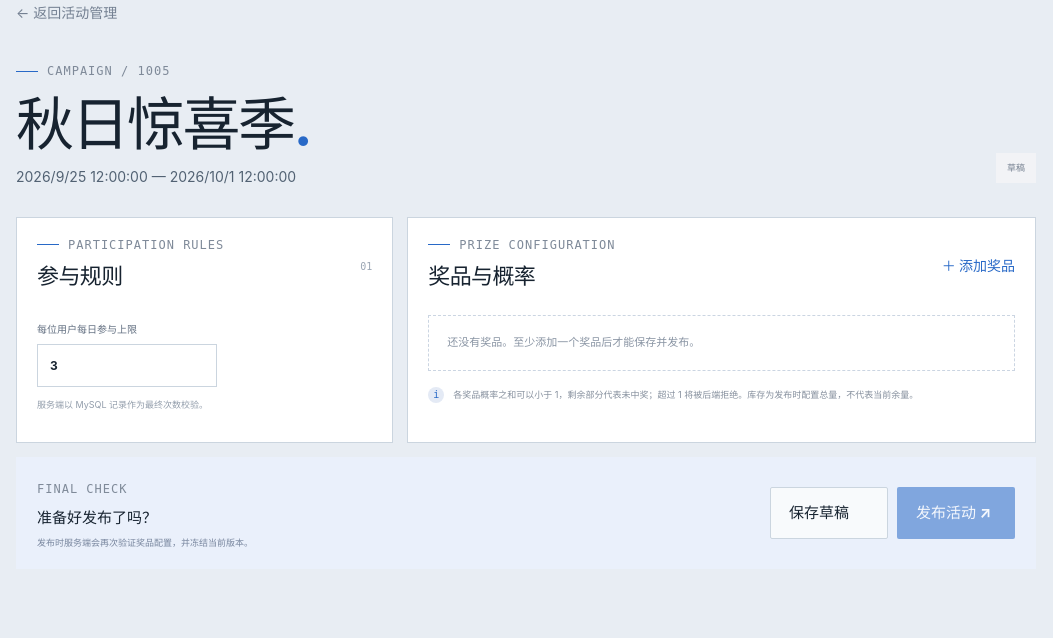
Scenario: operator campaign configuration › saves changed draft configuration before publishing it
Click the button with class "add-prize" at (975, 266), box [936, 245, 1015, 287]
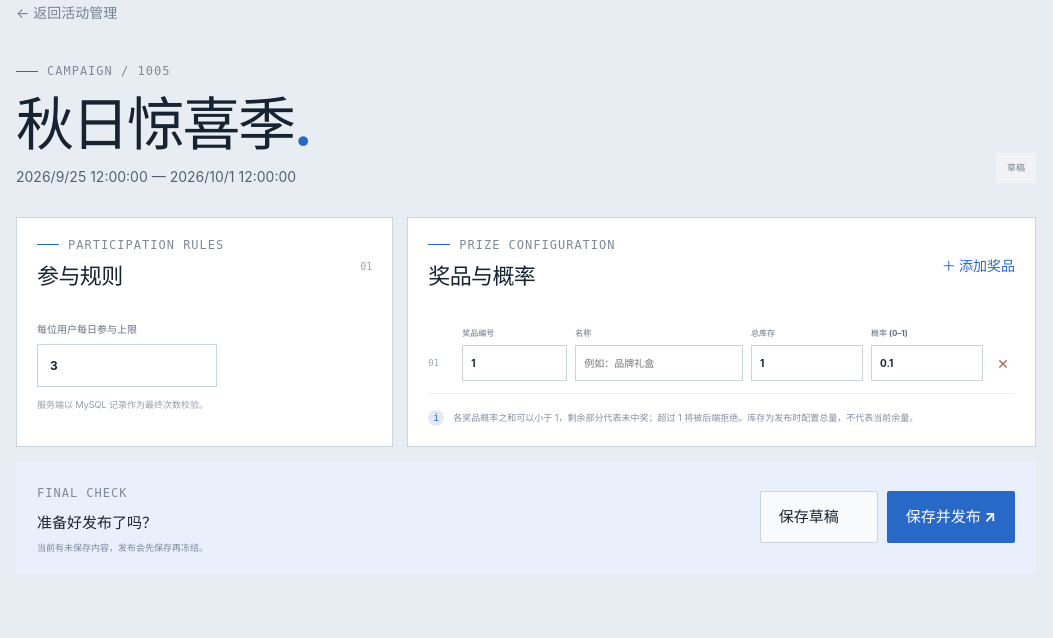
Type "品牌礼盒" into the field labelled "名称" at (659, 363), box [575, 345, 743, 381]
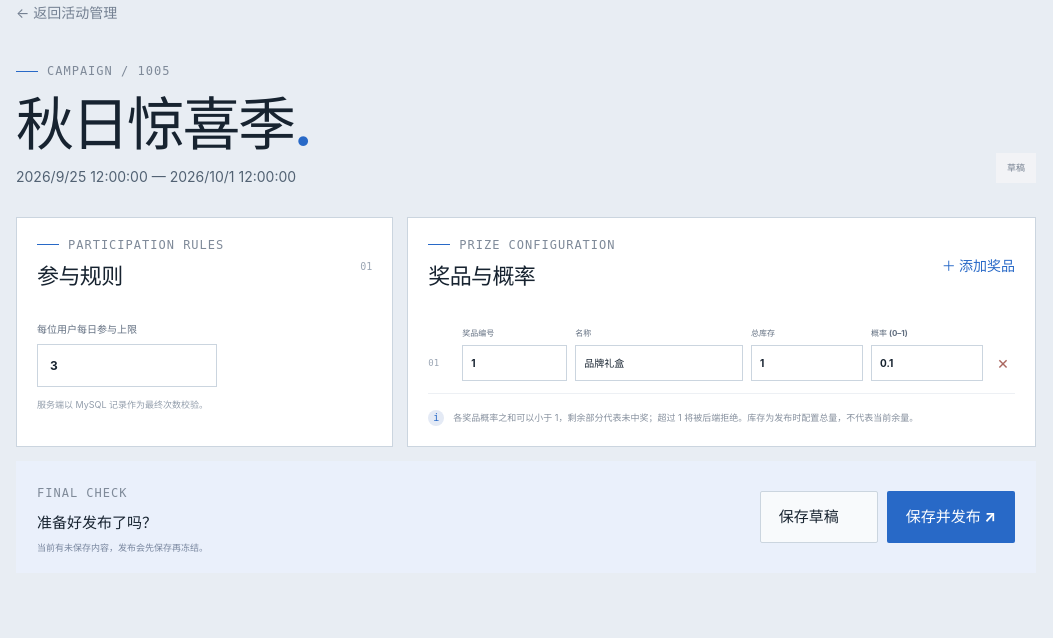
Click the button "保存并发布 ↗" at (951, 517), box [887, 491, 1015, 543]
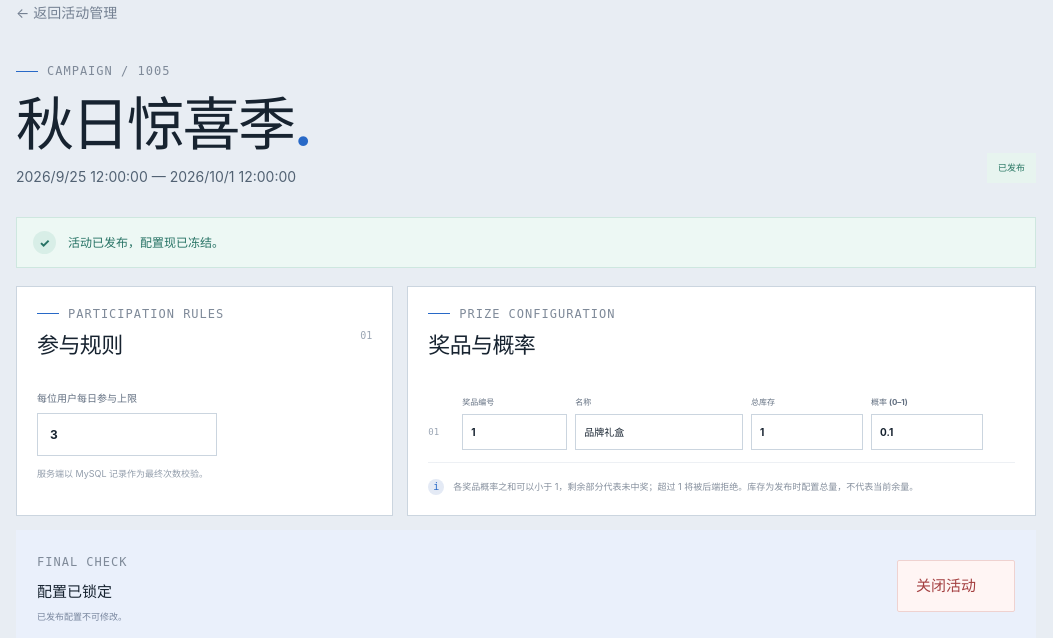
Expected: the text "活动已发布" is shown, [68, 235, 224, 250]
Expected: the text with class "large" reads "已发布", [998, 162, 1025, 172]
